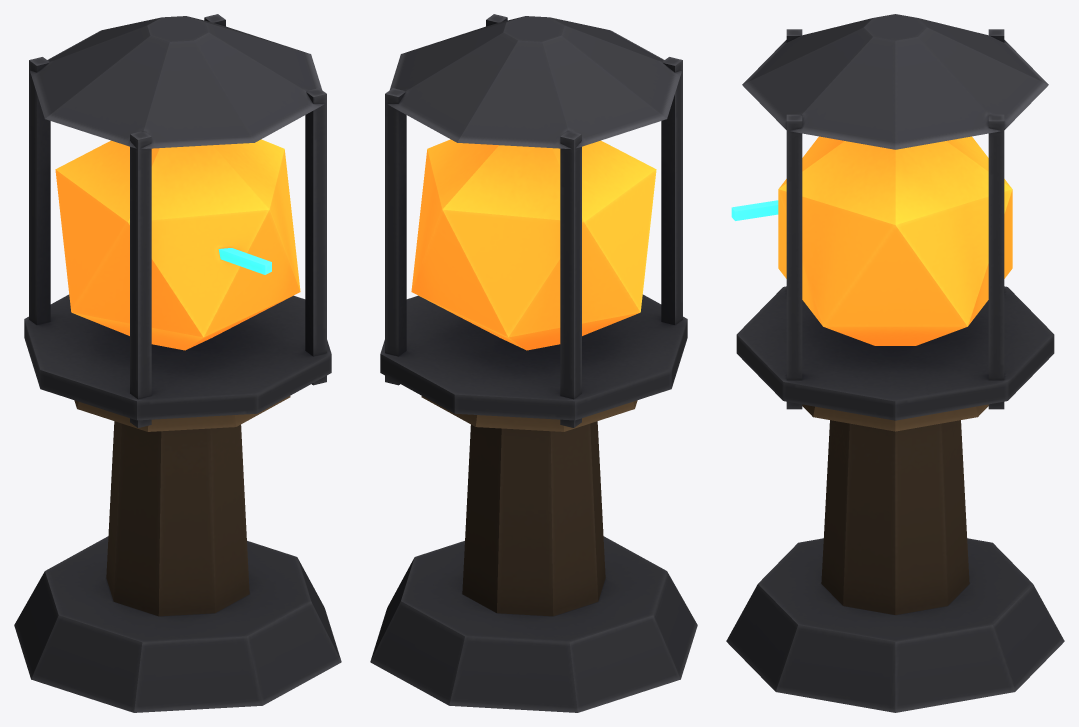
Rendered from obj_sphere_fire.glb.
3 views of the same model, side by side, from view 1: azimuth 30°, elevation 25°; view 2: azimuth 150°, elevation 25°; view 3: azimuth 270°, elevation 25° (orthographic).
Parts seen in each view (by area): view 1: obj_sphere_fire; view 2: obj_sphere_fire; view 3: obj_sphere_fire.
Boxes of the visible parts, <box> form: obj_sphere_fire: <box>14,14,341,712</box>; obj_sphere_fire: <box>370,14,697,712</box>; obj_sphere_fire: <box>726,14,1064,712</box>.
Size of the model in its own units: 0.64 by 1.28 by 0.64.
Materials: 1 (1 with a texture image).
